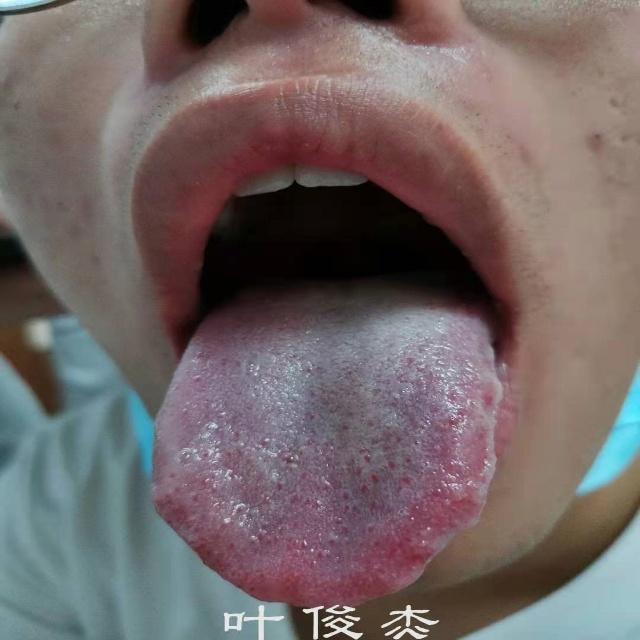baitaishe: (151, 270, 503, 608)
chihenshe: (475, 375, 503, 423)
hongdianshe: (340, 488, 350, 502), (369, 473, 380, 485), (362, 451, 372, 463), (385, 459, 395, 471), (360, 483, 370, 494), (274, 481, 283, 492), (404, 455, 412, 466), (227, 541, 235, 550)
